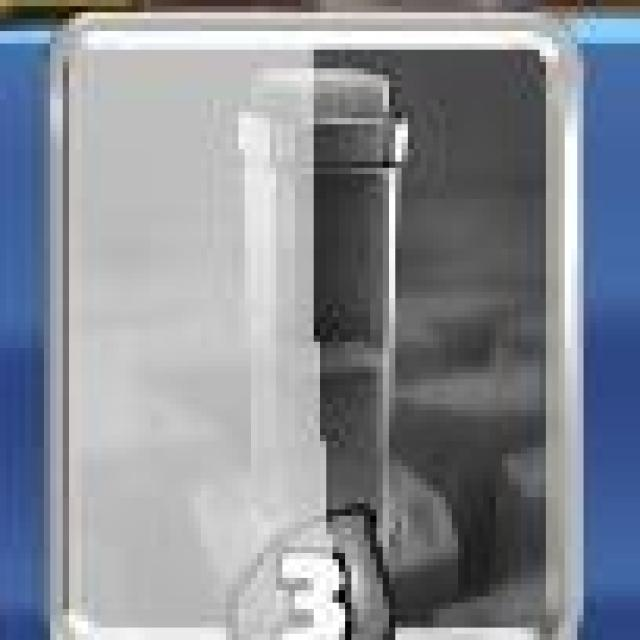Earthquake: (45, 9, 587, 640)
